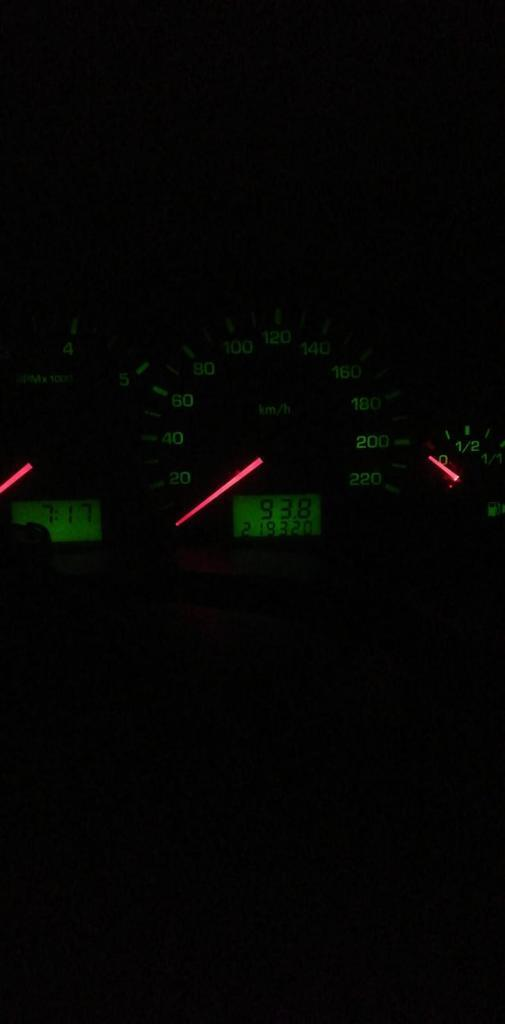-: (292, 513, 296, 518)
0: (303, 519, 313, 535)
1: (258, 520, 263, 537)
2: (290, 519, 300, 535), (241, 520, 251, 535)
3: (278, 496, 291, 518), (277, 519, 287, 536)
8: (297, 496, 311, 518)
9: (259, 497, 272, 519), (265, 519, 275, 536)
odometer: (230, 491, 323, 539)
